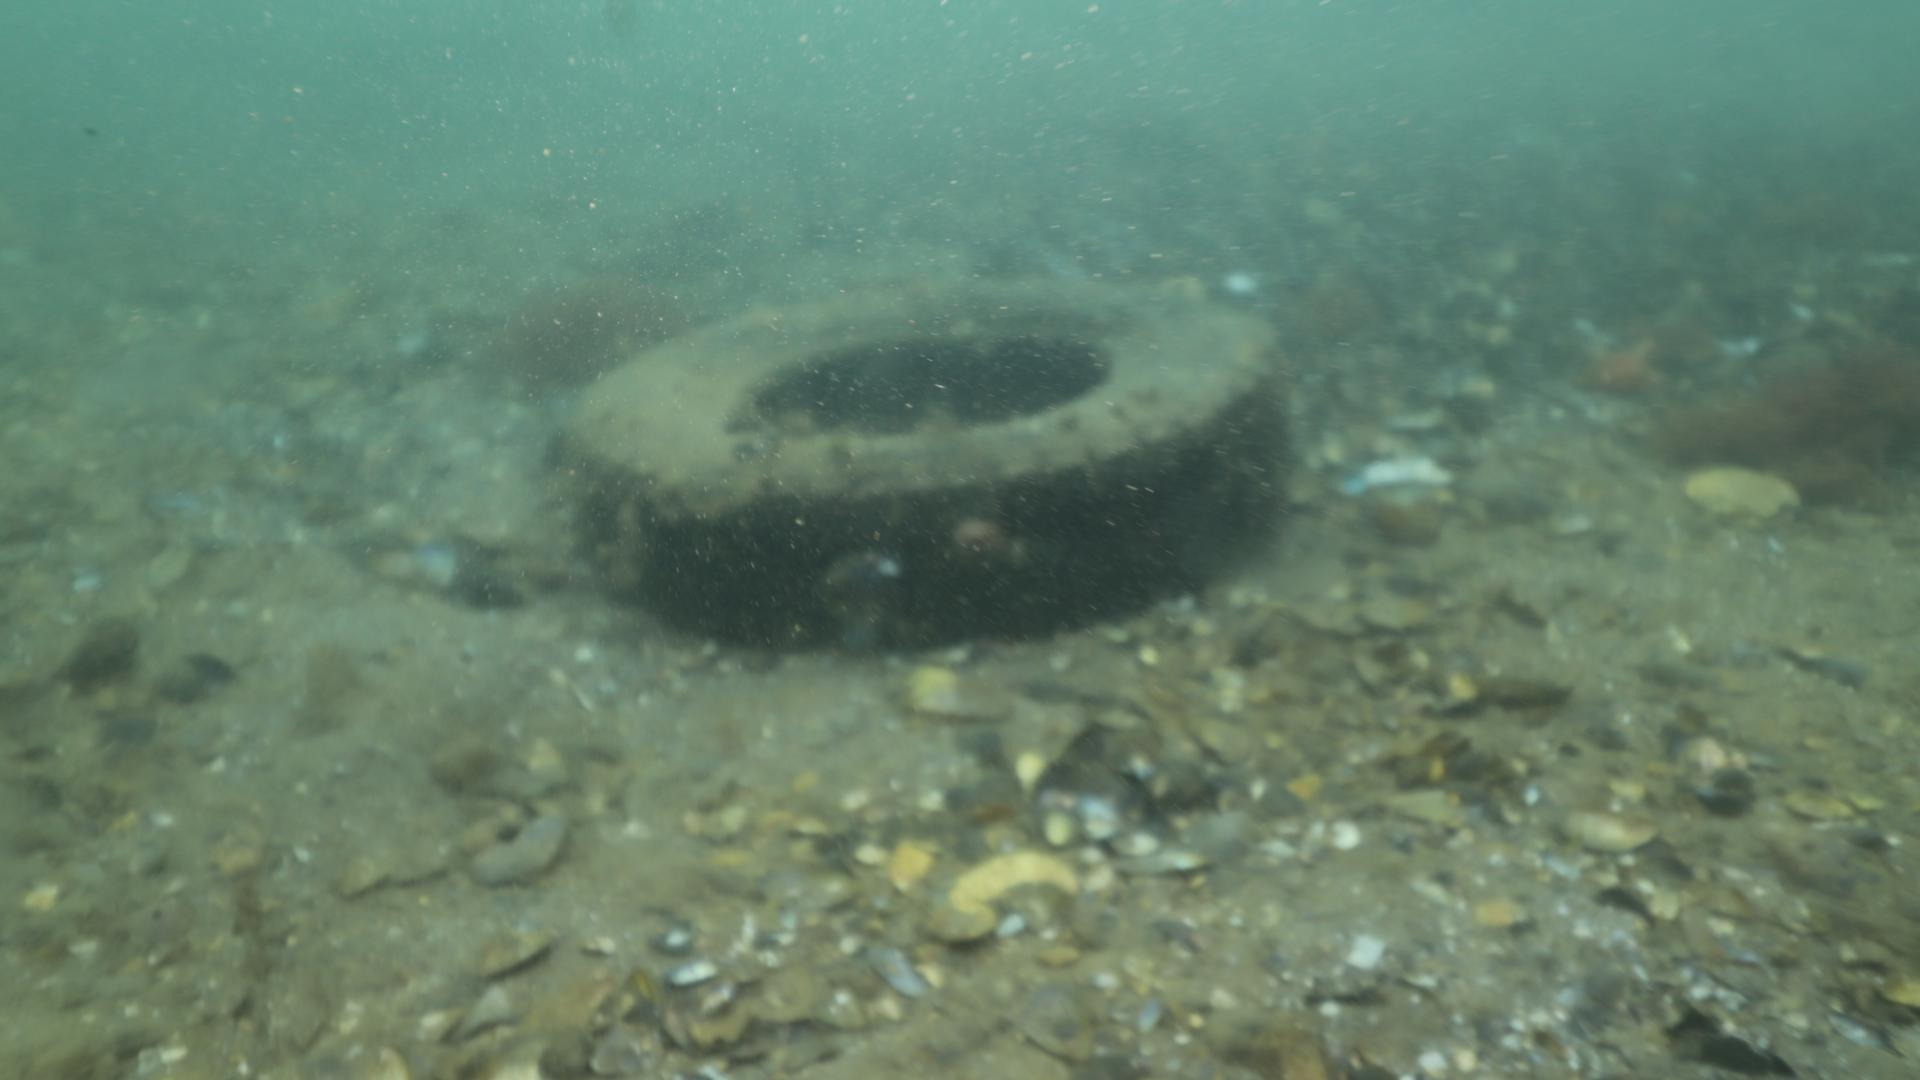tire: (550, 290, 1280, 636)
